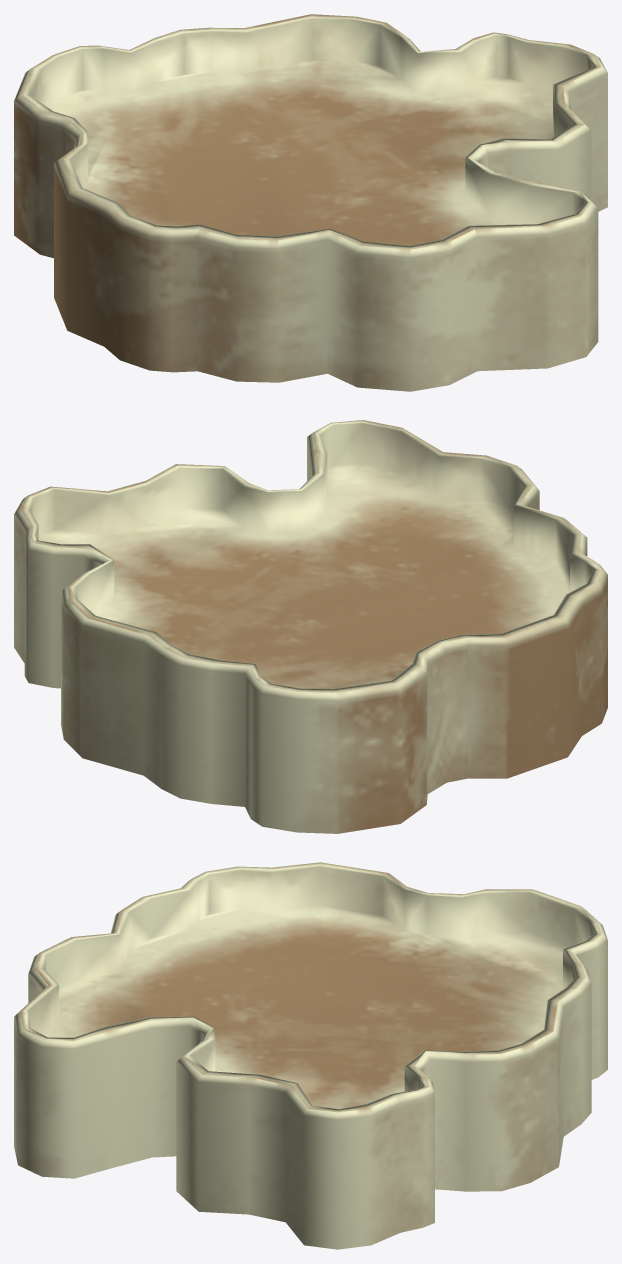
The model's file is Plates_Small_2.fbx.
3 renders of one model, top to bottom at view 1: azimuth 30°, elevation 25°; view 2: azimuth 150°, elevation 25°; view 3: azimuth 270°, elevation 25°, orthographic. The views are drawn at different scales.
Parts seen in each view (by area): view 1: pCylinder2; view 2: pCylinder2; view 3: pCylinder2.
Boxes of the visible parts, left/top/right/bottom form: pCylinder2: left=14, top=14, right=607, bottom=391; pCylinder2: left=14, top=420, right=607, bottom=833; pCylinder2: left=14, top=862, right=607, bottom=1249.
Size of the model in its own units: 17.5 by 4.31 by 17.22.
